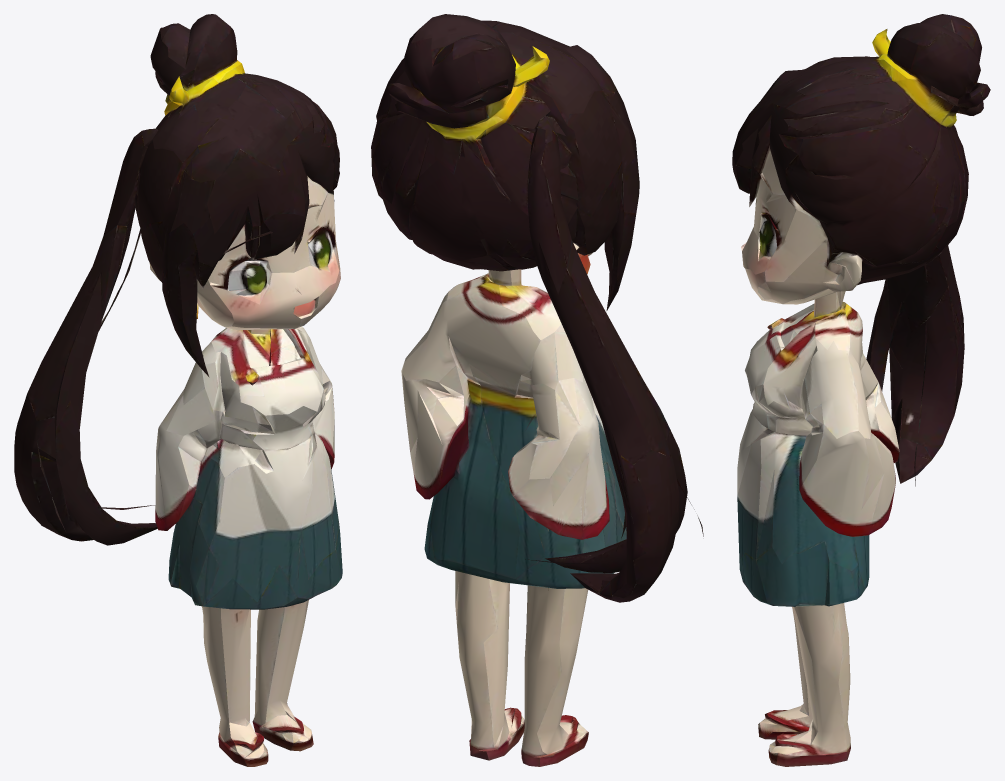
File: villager_woman.glb
3 renders of one model, left to right at view 1: azimuth 30°, elevation 25°; view 2: azimuth 150°, elevation 25°; view 3: azimuth 270°, elevation 25°, orthographic. The views are drawn at different scales.
Bounding box in the file's own units: 0.8129 × 1.9 × 0.6132.
Materials: 1 (1 with a texture image).
